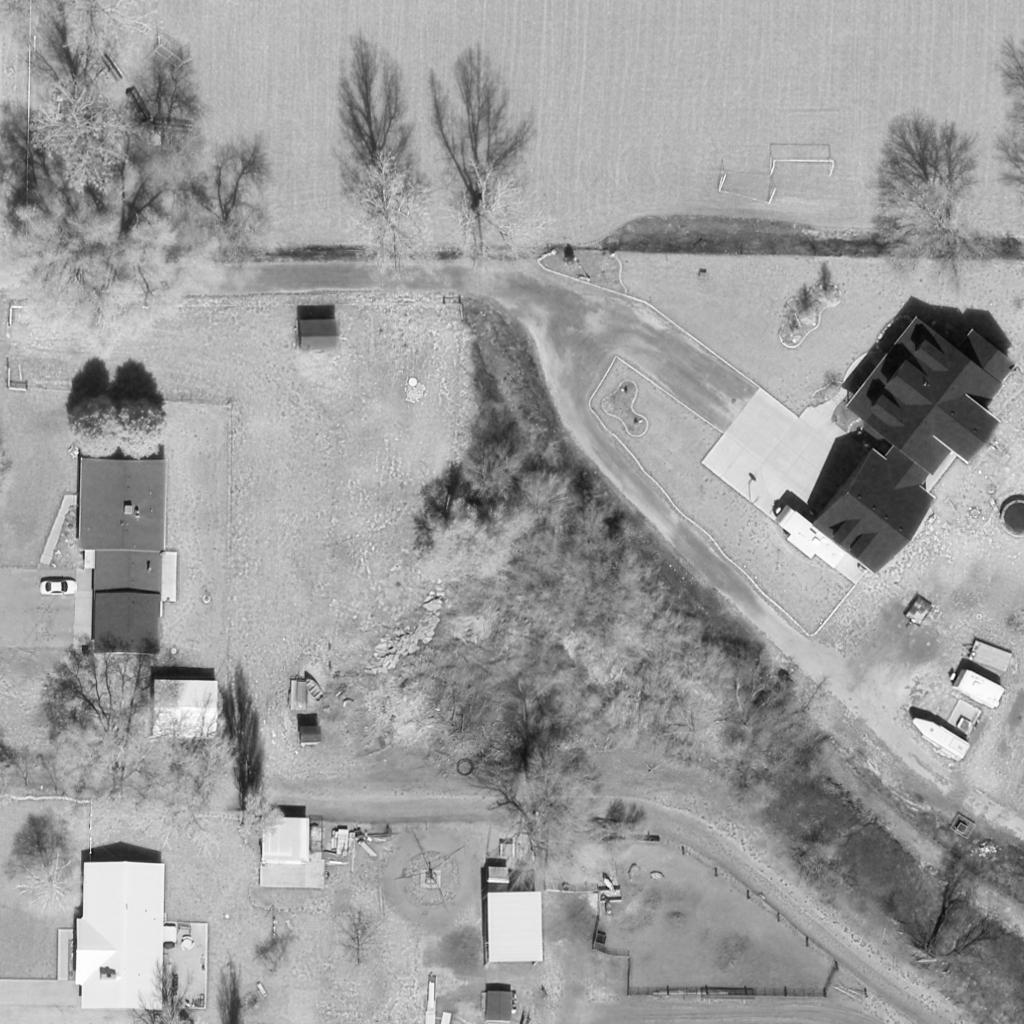vehicle: (775, 508, 847, 570), (908, 712, 970, 764), (951, 667, 1005, 709), (39, 580, 79, 596)
